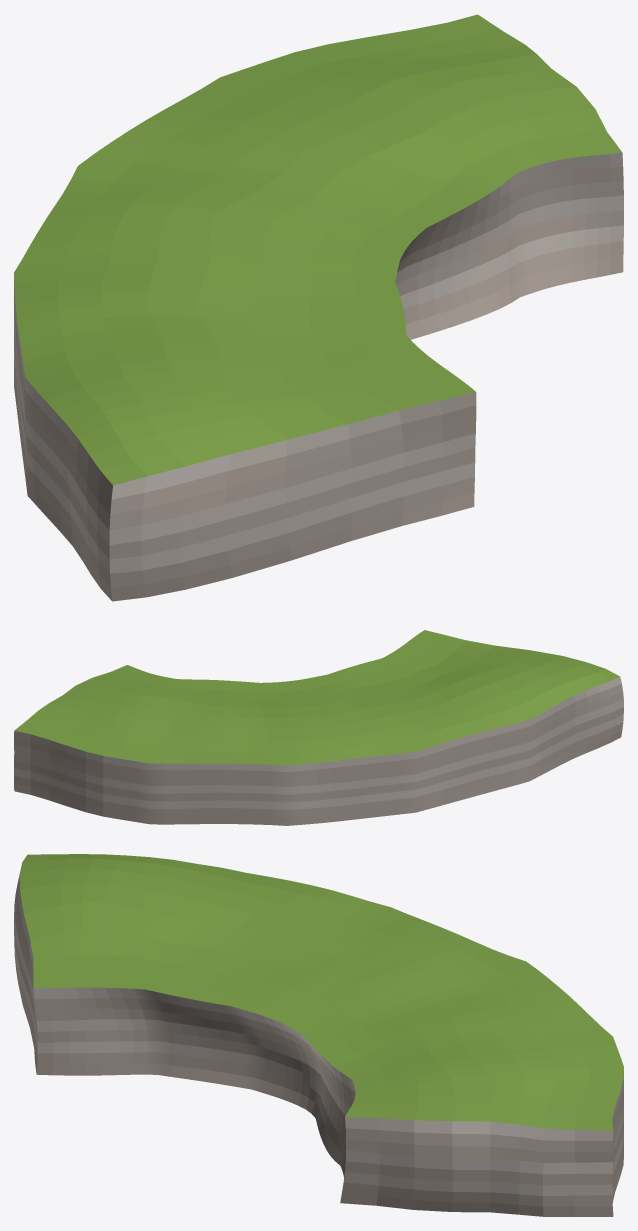
File: SM_Island_Bend.fbx
3 views of the same model, one above another, from view 1: azimuth 30°, elevation 25°; view 2: azimuth 150°, elevation 25°; view 3: azimuth 270°, elevation 25° (orthographic). The views are drawn at different scales.
Visible parts, largest first — view 1: pPipe3; view 2: pPipe3; view 3: pPipe3.
Part boxes in pixels (x1,y1,x2,y2): pPipe3: [14, 14, 623, 601]; pPipe3: [14, 630, 623, 825]; pPipe3: [14, 854, 623, 1216].
Size of the model in its own units: 212 by 35.82 by 195.
